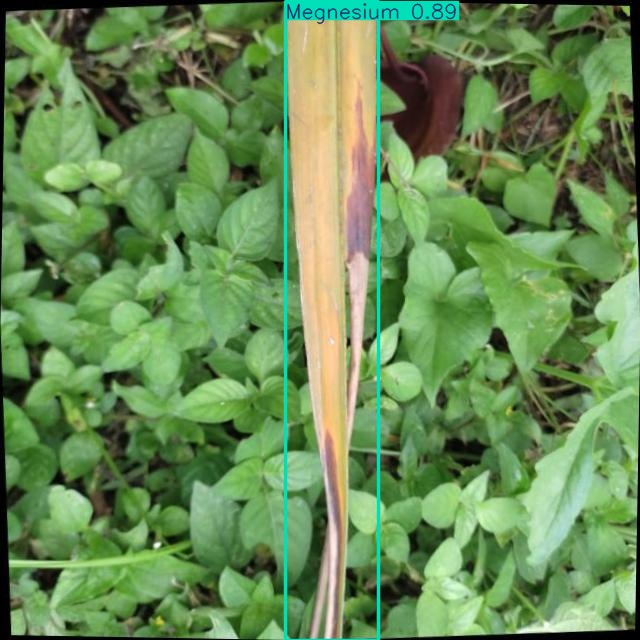Megnesium: (285, 1, 378, 640)
